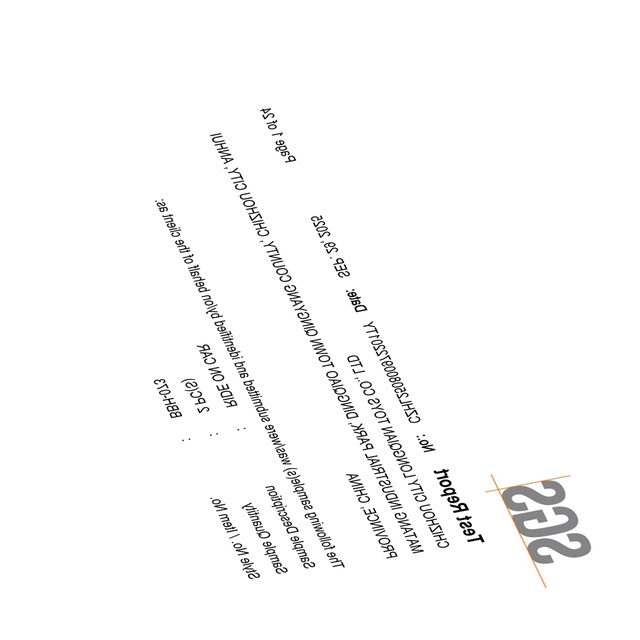sgs: (503, 479, 591, 563)
